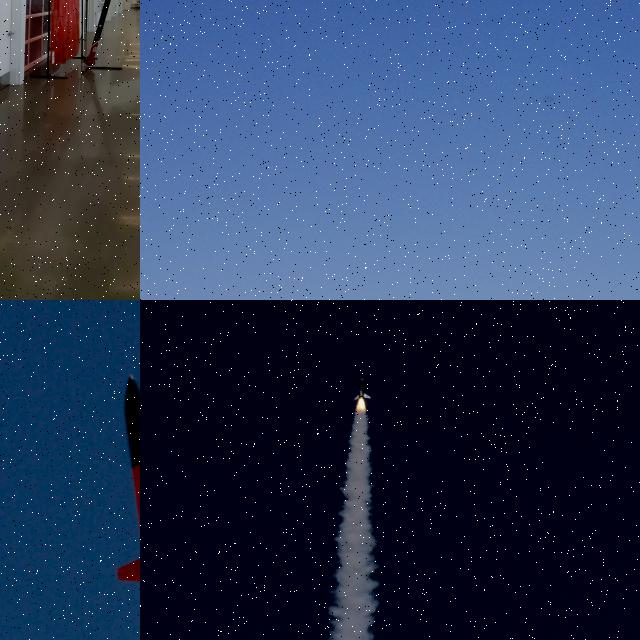Rocket: (115, 369, 140, 598), (83, 0, 111, 67), (354, 378, 372, 400)
